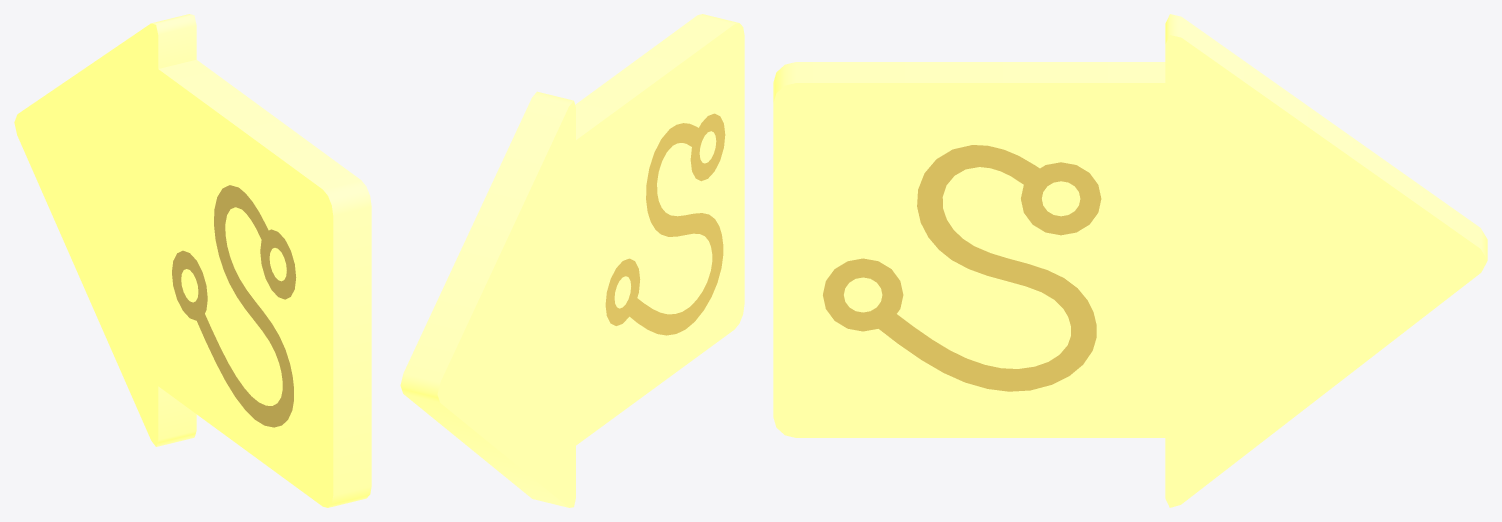
The model's file is marker_travel.dae.
3 renders of one model, left to right at view 1: azimuth 30°, elevation 25°; view 2: azimuth 150°, elevation 25°; view 3: azimuth 270°, elevation 25°, orthographic. The views are drawn at different scales.
Visible parts, largest first — view 1: Travel, TravelLabel; view 2: Travel, TravelLabel; view 3: Travel, TravelLabel.
Boxes of the visible parts, x1,y1,x2,y2 form: Travel: (14,14,371,507); TravelLabel: (172,185,296,427); Travel: (400,14,744,507); TravelLabel: (605,113,725,335); Travel: (773,14,1487,507); TravelLabel: (823,145,1101,391).
Bounding box in the file's own units: 15.96 × 159 × 116.
